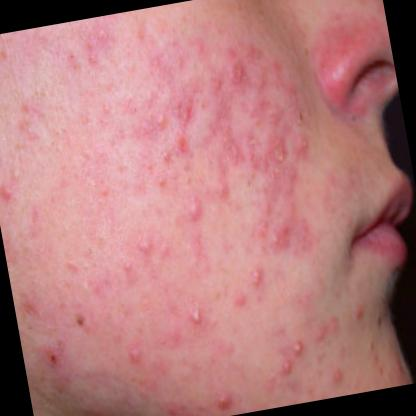Acne: (224, 53, 246, 88), (184, 193, 204, 222), (246, 263, 267, 290), (270, 144, 290, 172), (134, 237, 158, 259), (213, 386, 233, 412), (290, 335, 306, 360), (296, 132, 311, 158), (90, 28, 109, 48), (156, 145, 173, 167), (152, 110, 168, 132), (266, 228, 281, 249), (188, 308, 202, 327)
